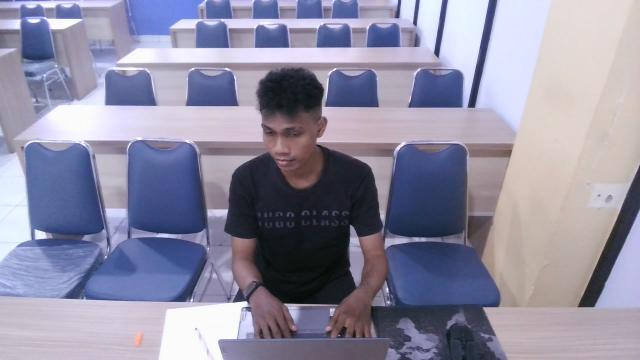Looking_Around: (215, 58, 389, 297)
